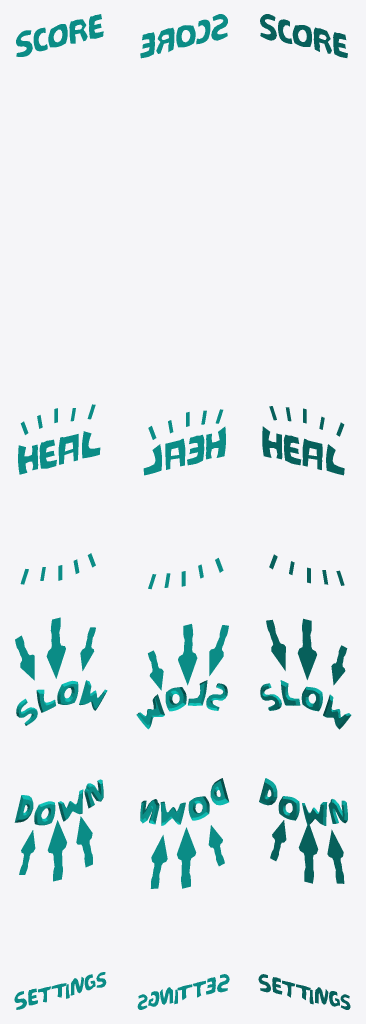
3 renders of one model, left to right at view 1: azimuth 30°, elevation 25°; view 2: azimuth 210°, elevation 25°; view 3: azimuth 330°, elevation 25°, orthographic.
Parts seen in each view (by area): view 1: mesh_text_slow, mesh_text_heal, mesh_text_score, mesh_text_settings; view 2: mesh_text_slow, mesh_text_heal, mesh_text_score, mesh_text_settings; view 3: mesh_text_slow, mesh_text_heal, mesh_text_score, mesh_text_settings.
Boxes of the visible parts, left/top/right/bottom form: mesh_text_slow: left=14, top=617, right=107, bottom=881; mesh_text_heal: left=18, top=404, right=100, bottom=584; mesh_text_score: left=16, top=14, right=103, bottom=56; mesh_text_settings: left=14, top=972, right=106, bottom=1009; mesh_text_slow: left=136, top=624, right=228, bottom=888; mesh_text_heal: left=143, top=409, right=225, bottom=589; mesh_text_score: left=140, top=14, right=227, bottom=58; mesh_text_settings: left=137, top=974, right=229, bottom=1009; mesh_text_slow: left=259, top=618, right=351, bottom=883; mesh_text_heal: left=262, top=406, right=344, bottom=585; mesh_text_score: left=260, top=14, right=347, bottom=57; mesh_text_settings: left=258, top=974, right=350, bottom=1009.
Bounding box in the file's own units: 0.0451 × 0.4524 × 0.0041.
